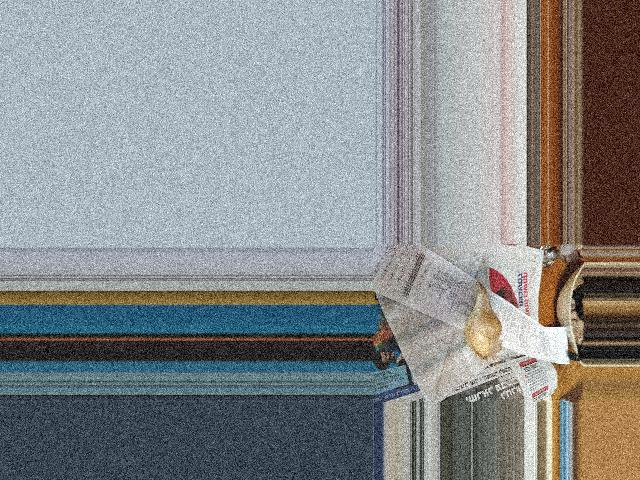onion: (462, 296, 503, 357)
